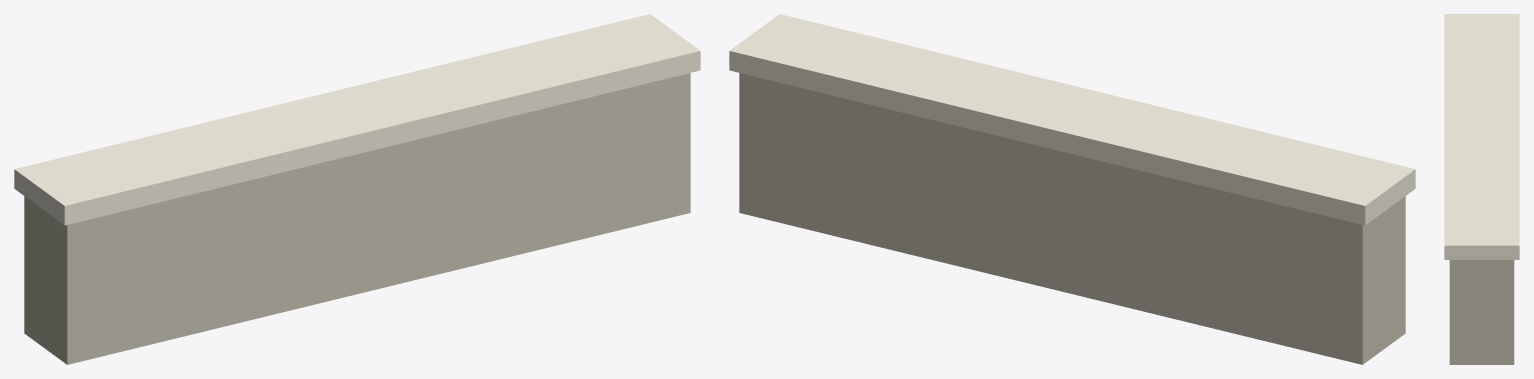
3 renders of one model, left to right at view 1: azimuth 30°, elevation 25°; view 2: azimuth 150°, elevation 25°; view 3: azimuth 270°, elevation 25°, orthographic. The views are drawn at different scales.
Size of the model in its own units: 4.08 by 1 by 0.56.
